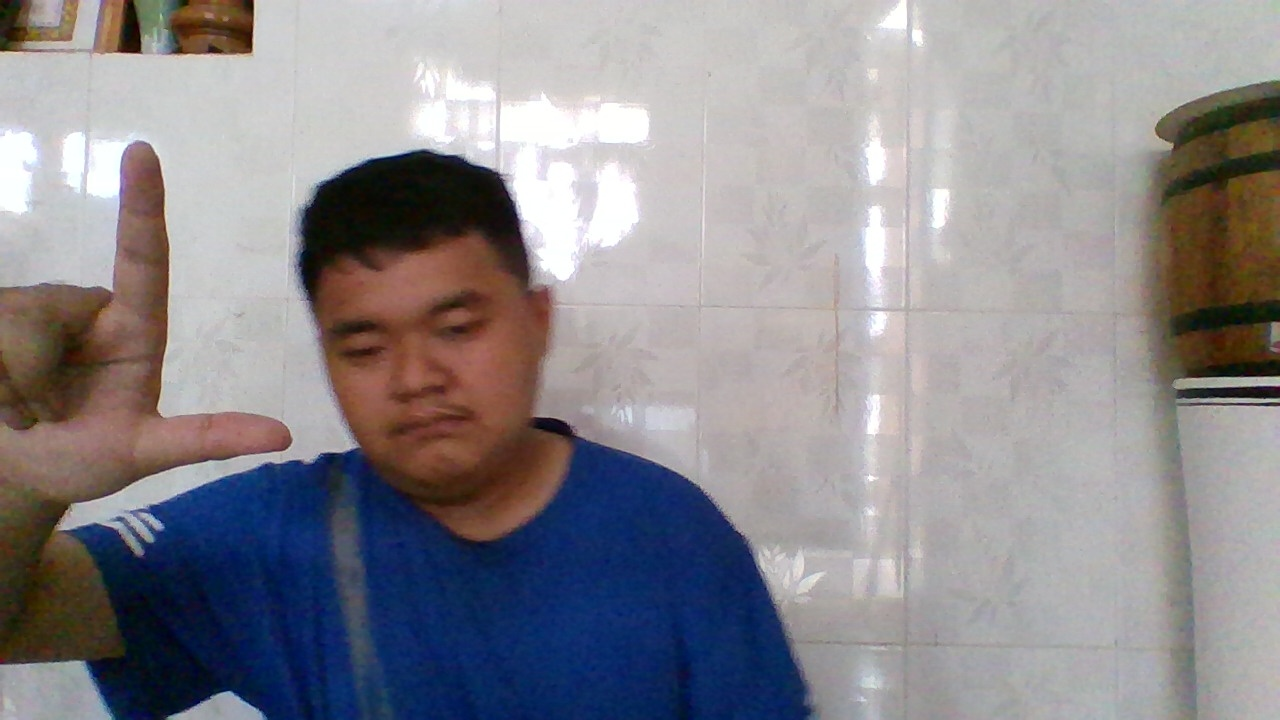L: (0, 140, 288, 502)
